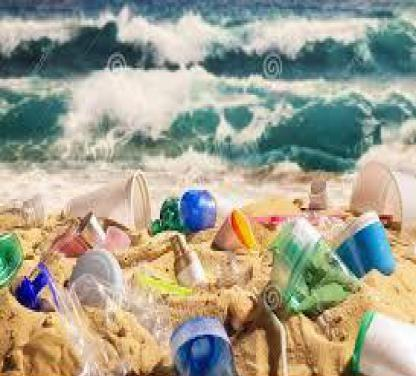Plastic: (70, 171, 151, 227), (350, 309, 416, 376), (333, 207, 394, 279), (171, 314, 233, 376), (68, 249, 127, 309), (167, 231, 204, 287), (167, 192, 220, 230)
